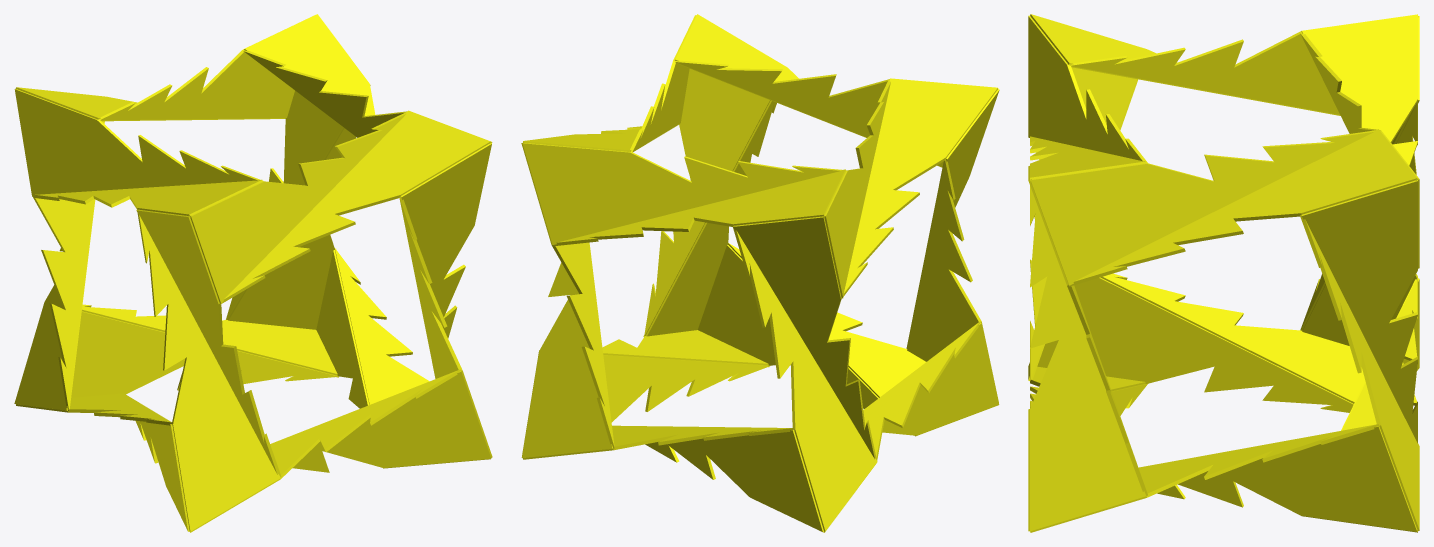
The picture shows the model from 3 angles, left to right: view 1: azimuth 30°, elevation 25°; view 2: azimuth 150°, elevation 25°; view 3: azimuth 270°, elevation 25°; orthographic projection. The views are drawn at different scales.
Visible parts, largest first — view 1: root; view 2: root; view 3: root.
Part boxes in pixels (x1,y1,x2,y2): root: (14, 14, 492, 532); root: (521, 14, 999, 532); root: (1028, 14, 1419, 532).
Size of the model in its own units: 1.01 by 1.01 by 1.01.
